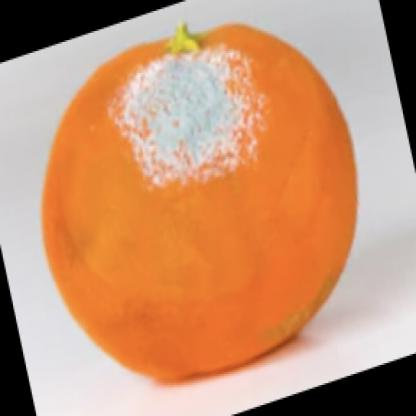rotten_orange: (29, 7, 370, 394)
